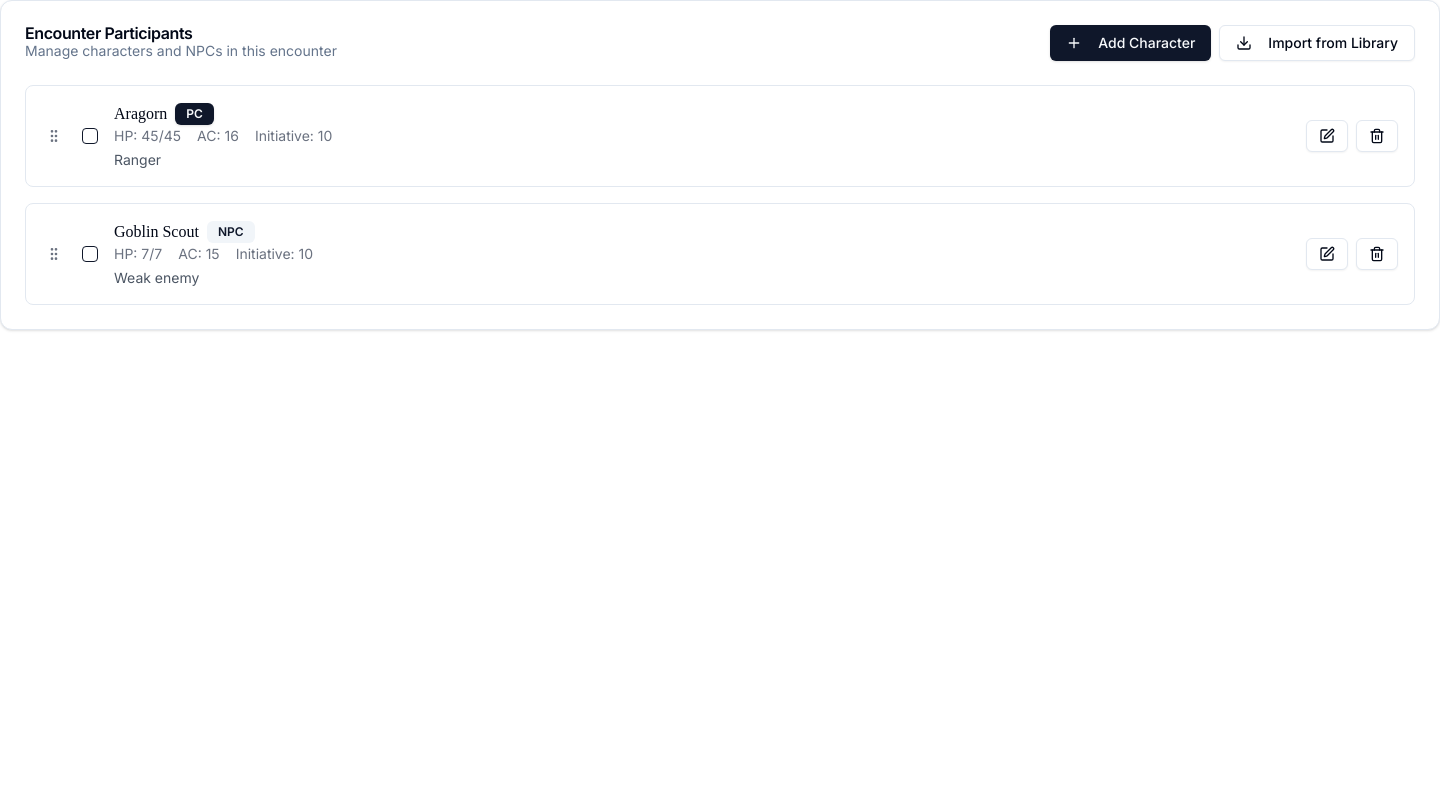
Test: EncounterParticipantManager › Adding Participants › should show add participant form when Add Character is clicked
Click the button "Add Character" at (1131, 43), box x1=1050 y1=25 x2=1211 y2=61
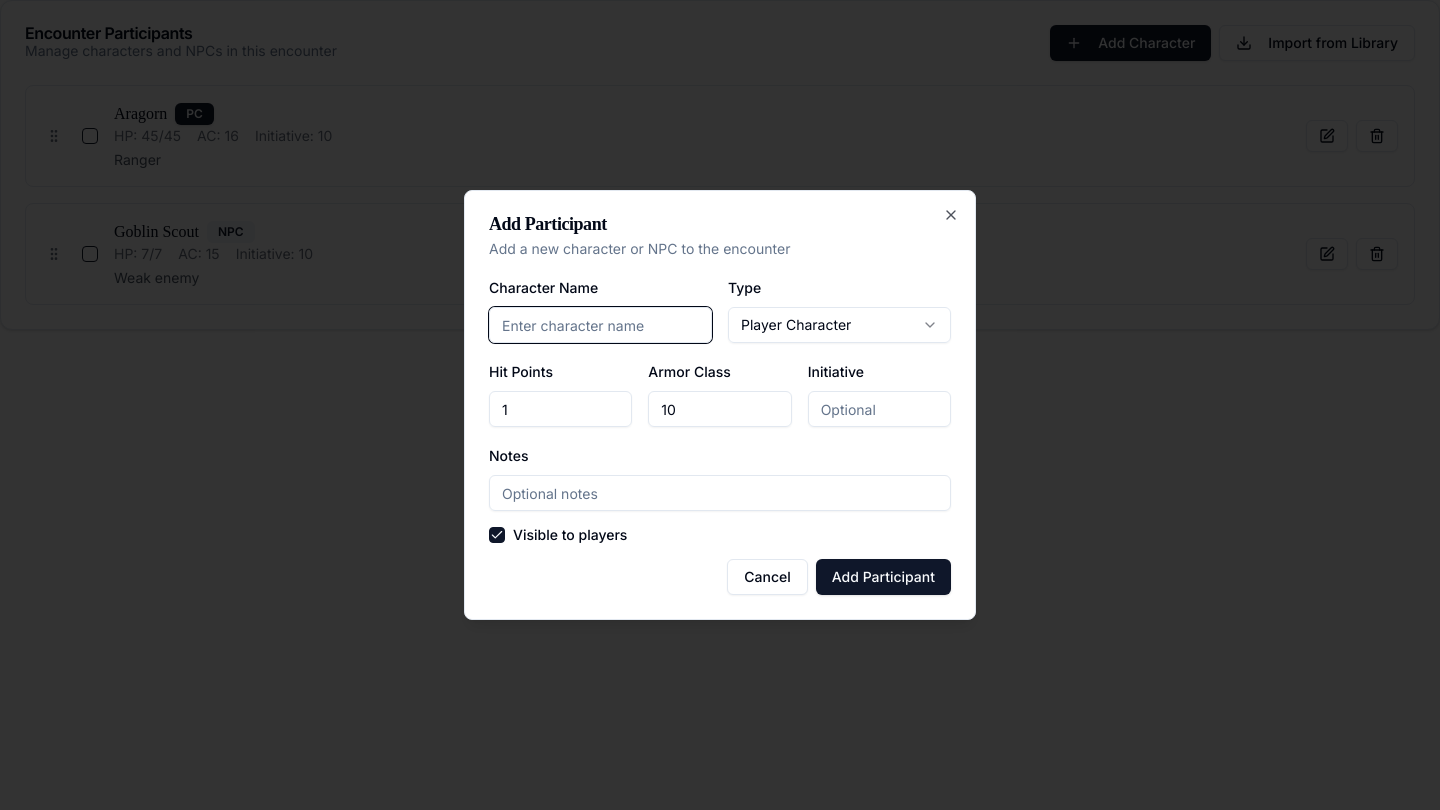
Check: the dialog is shown, box x1=464 y1=190 x2=976 y2=620
Check: the field labelled "Character Name" is shown, box x1=489 y1=307 x2=712 y2=343
Check: the number field labelled "Hit Points" is shown, box x1=489 y1=391 x2=632 y2=427
